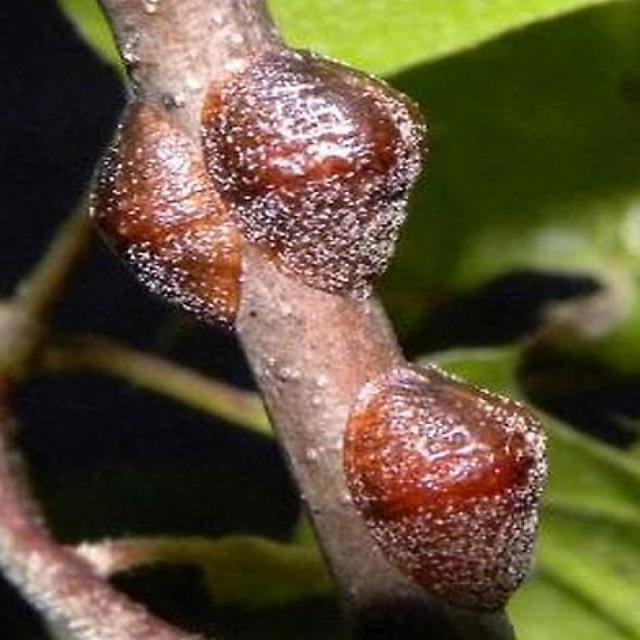BlackScale: (202, 48, 426, 286), (342, 362, 546, 612), (92, 100, 238, 324)
